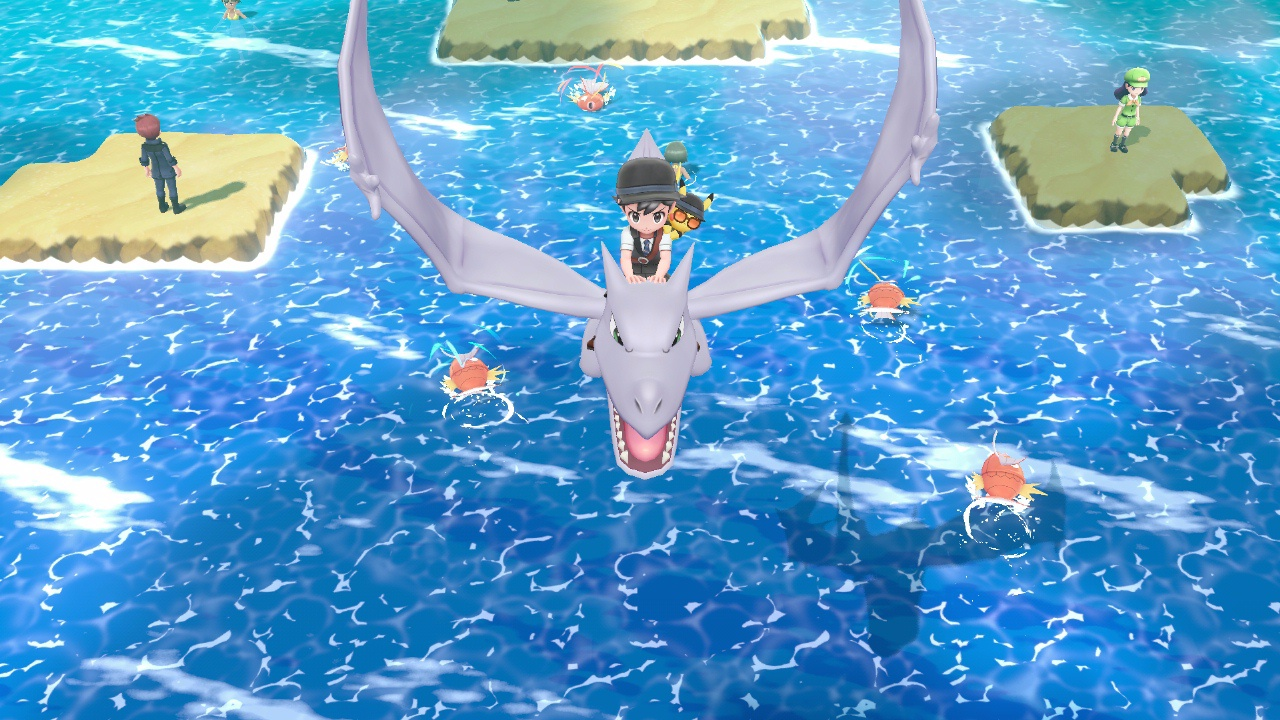Red: (965, 449, 1043, 517), (439, 348, 500, 401), (858, 277, 914, 324), (568, 77, 615, 109)
